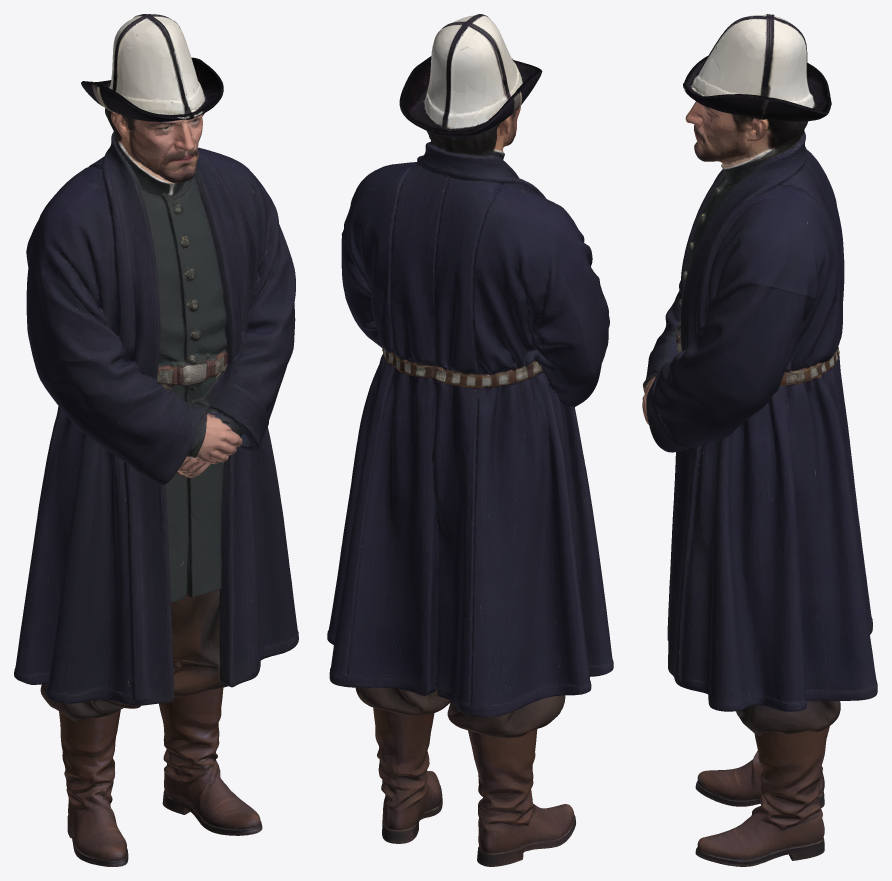
Rendered from ancestor_2.glb.
3 renders of one model, left to right at view 1: azimuth 30°, elevation 25°; view 2: azimuth 150°, elevation 25°; view 3: azimuth 270°, elevation 25°, orthographic.
Parts seen in each view (by area): view 1: ancestor; view 2: ancestor; view 3: ancestor.
Boxes of the visible parts, <box> form: ancestor: <box>14,14,298,866</box>; ancestor: <box>327,14,613,866</box>; ancestor: <box>642,14,877,866</box>.
Size of the model in its own units: 0.5902 by 1.8 by 0.4747.
1 material, 1 textured.
